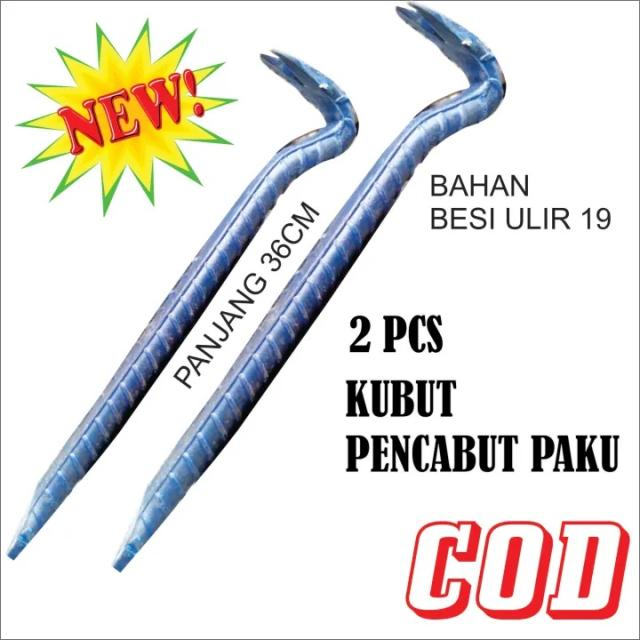Linggis: (20, 49, 361, 569)
